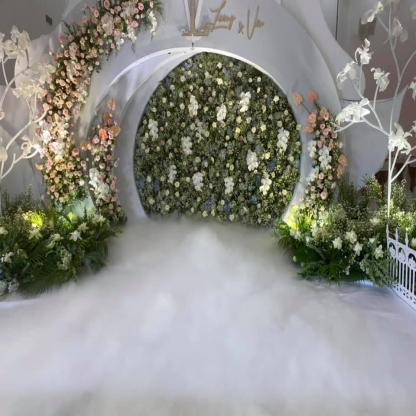smoke: (0, 217, 414, 414)
